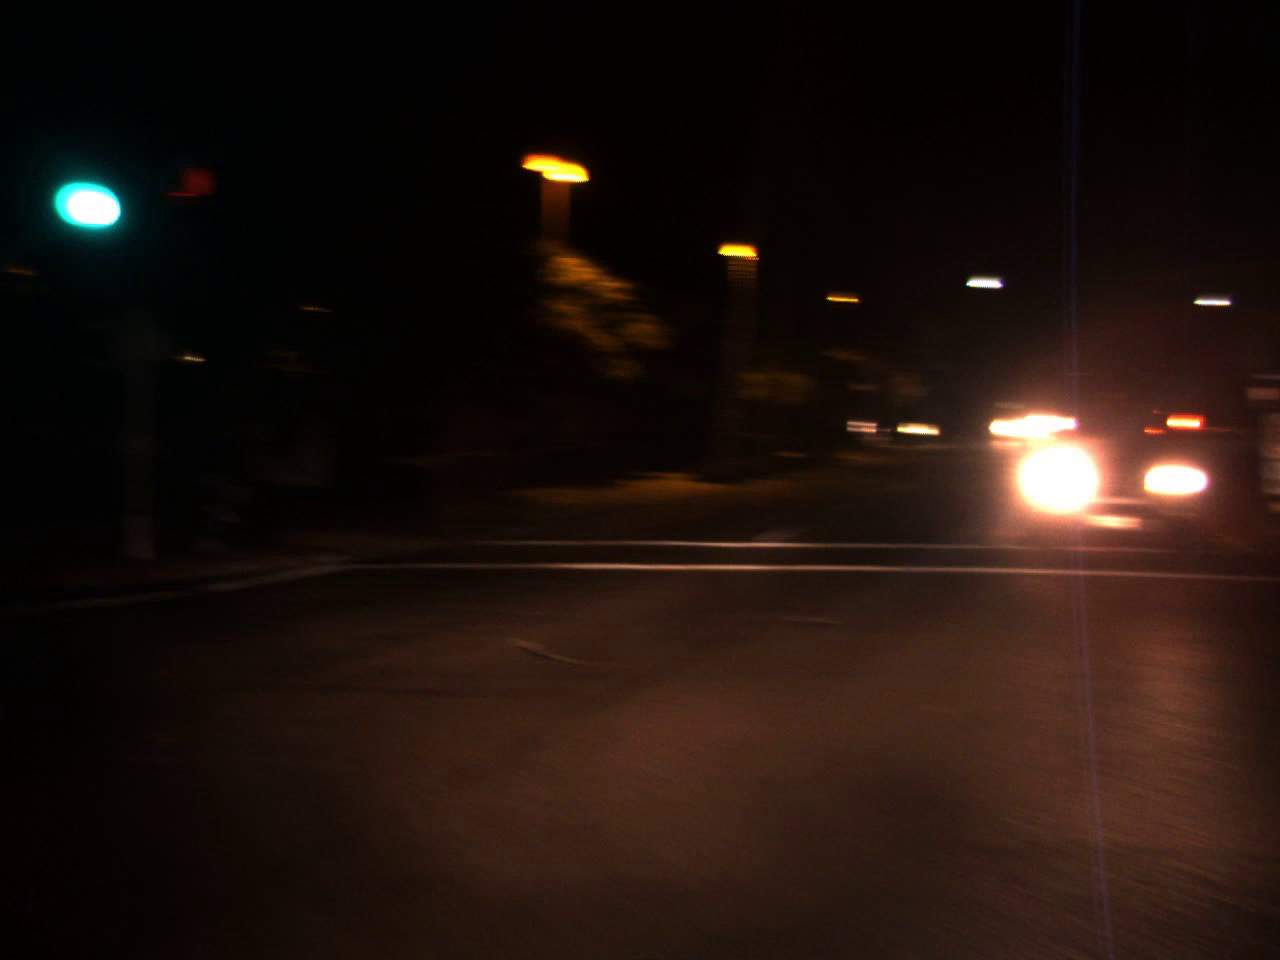go: (33, 118, 133, 250)
